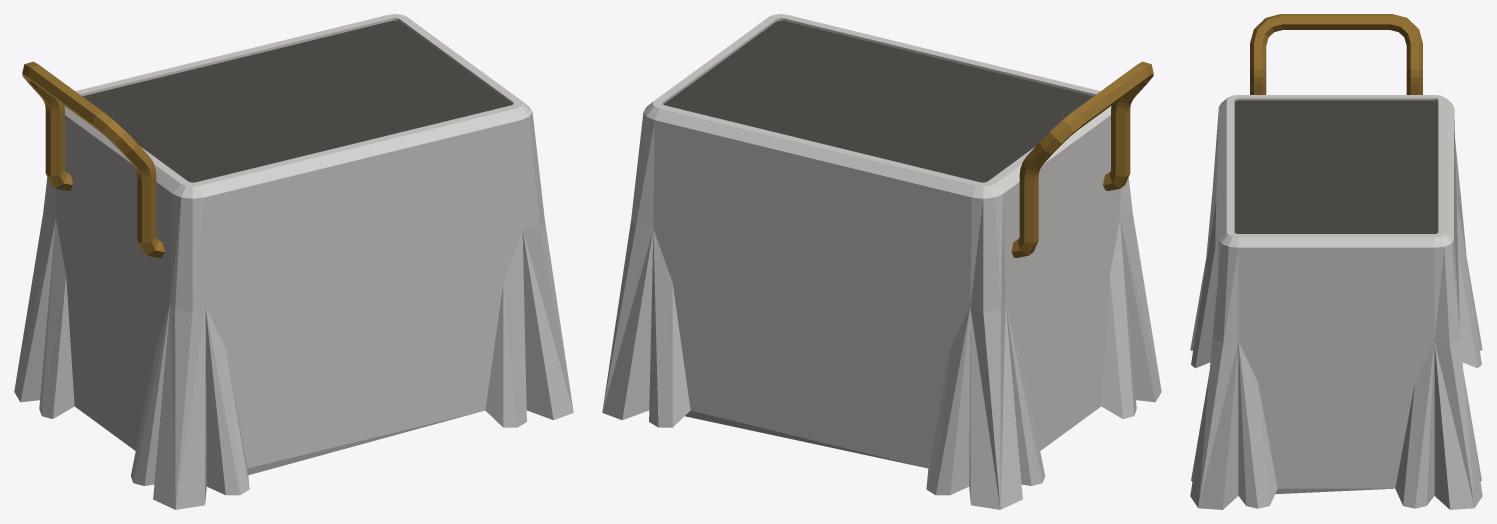
Rendered from room-service-cart-8ba266.glb.
The picture shows the model from 3 angles, left to right: view 1: azimuth 30°, elevation 25°; view 2: azimuth 150°, elevation 25°; view 3: azimuth 270°, elevation 25°; orthographic projection. The views are drawn at different scales.
Visible parts, largest first — view 1: cart-body; view 2: cart-body; view 3: cart-body.
Boxes of the visible parts, left/top/right/bottom form: cart-body: left=14, top=14, right=573, bottom=509; cart-body: left=602, top=14, right=1161, bottom=509; cart-body: left=1190, top=14, right=1482, bottom=509.
Size of the model in its own units: 1.11 by 0.9195 by 0.7461.
